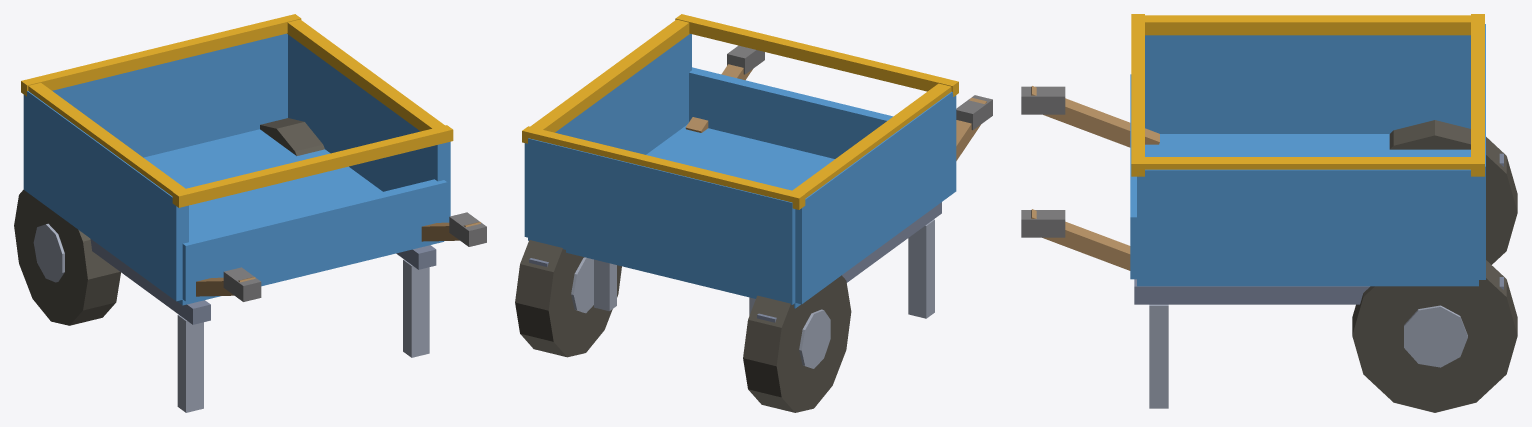
The model's file is dumper.glb.
3 views of the same model, side by side, from view 1: azimuth 30°, elevation 25°; view 2: azimuth 150°, elevation 25°; view 3: azimuth 270°, elevation 25° (orthographic). The views are drawn at different scales.
Parts seen in each view (by area): view 1: dumper; view 2: dumper; view 3: dumper.
Part boxes in pixels (bbox=[...]): dumper: bbox=[14, 14, 486, 412]; dumper: bbox=[515, 14, 992, 412]; dumper: bbox=[1021, 14, 1517, 412].
Size of the model in its own units: 1.25 by 0.985 by 1.75.
